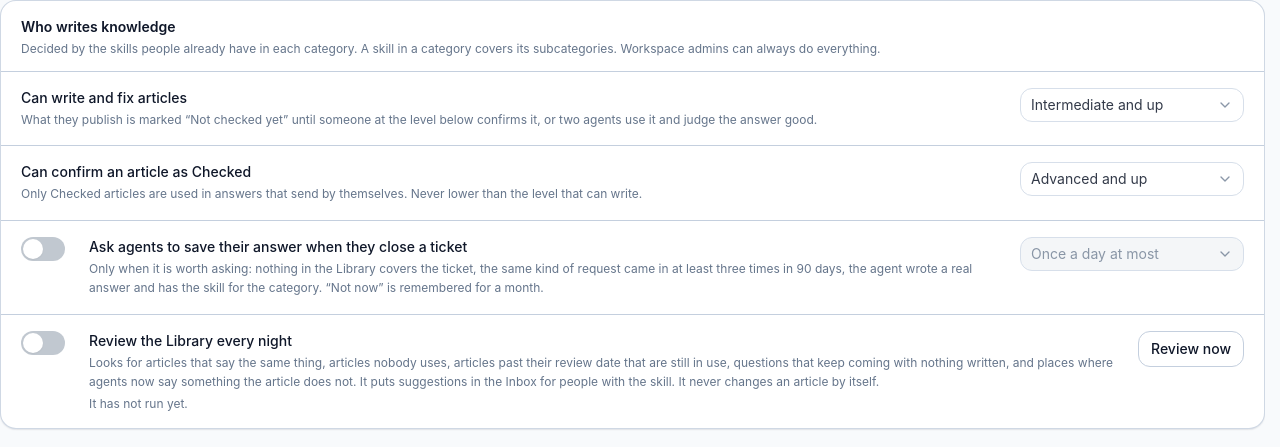
the nightly review in Settings › a switch that says what it does and that it never changes an article; "Review now" shows what it raised
Expected: the text "It never changes an article by itself" is shown, left=89, top=354, right=1113, bottom=389
Expected: the text with test id "review-last" reads "It has not run yet.", left=89, top=396, right=188, bottom=410
Click the switch named "Review the Library every night" at (43, 342), box left=21, top=330, right=65, bottom=354
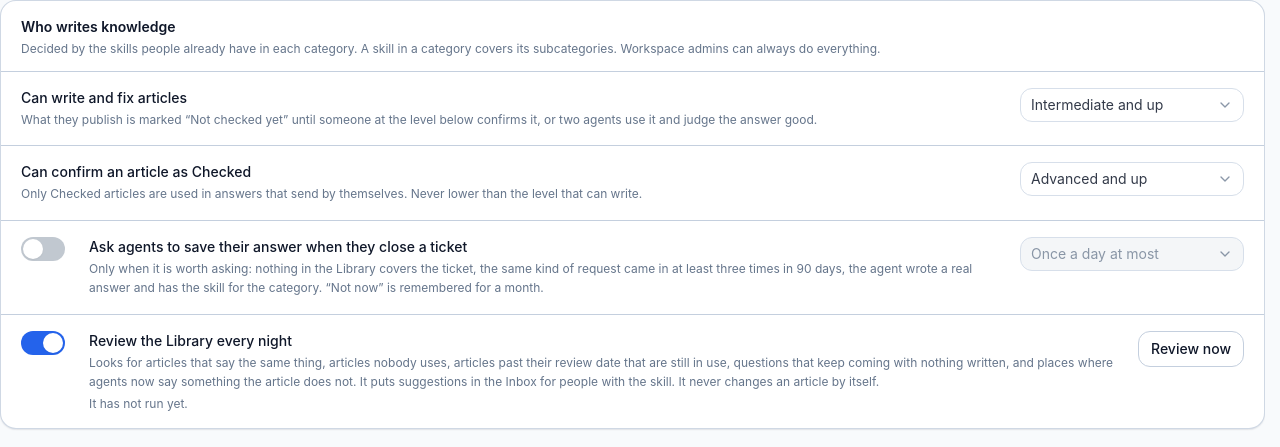
Click the button with test id "review-now" at (1191, 348), box left=1138, top=330, right=1244, bottom=366
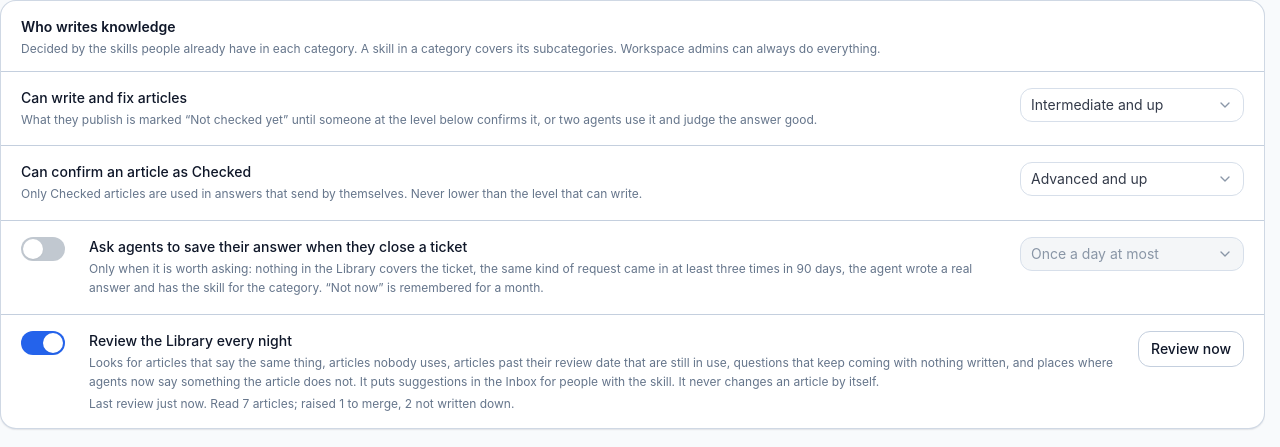
Expected: the text with test id "review-last" shows "Read 7 articles; raised 1 to merge, 2 not written down.", left=210, top=396, right=514, bottom=410
